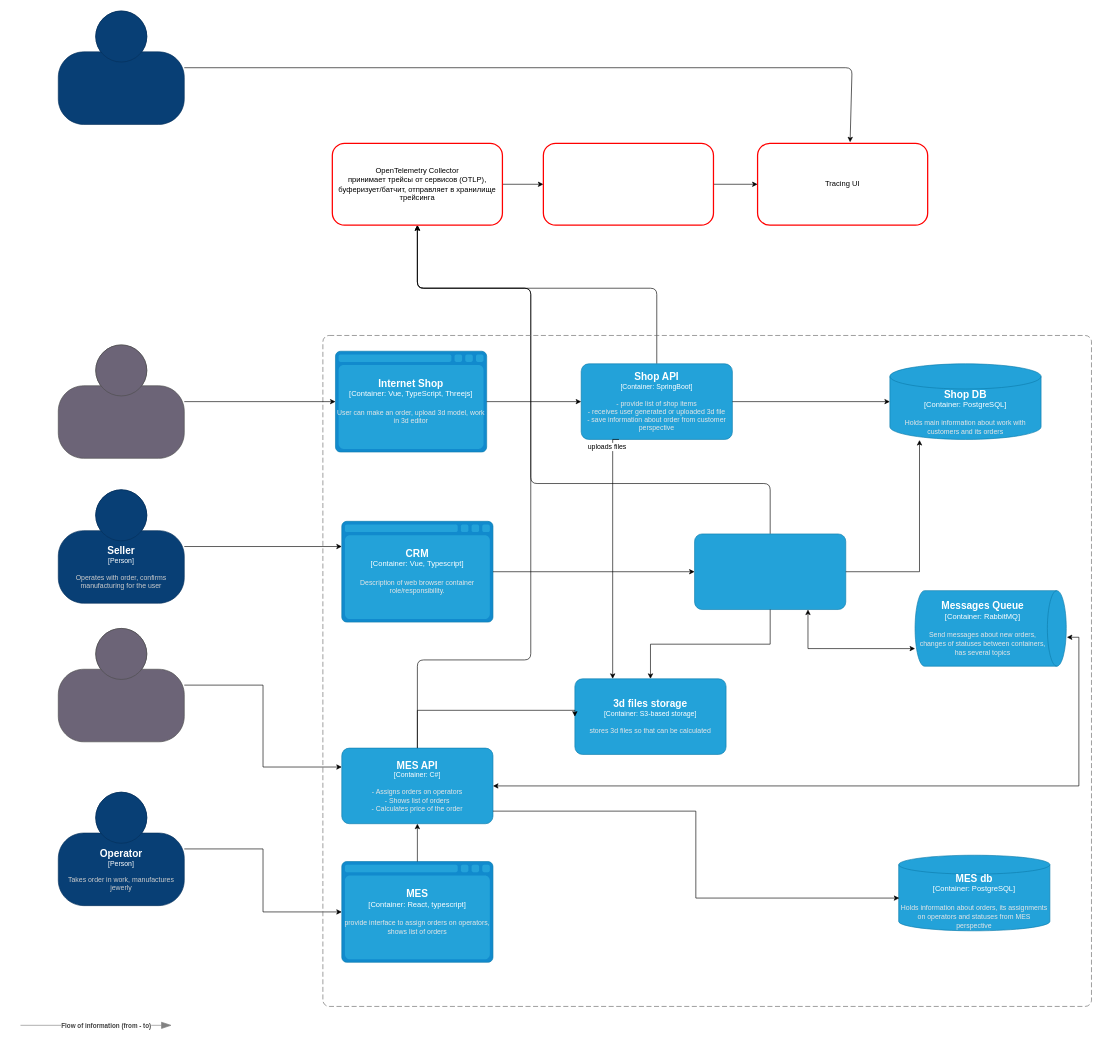
The diagram is 1103 pixels wide and 1046 high, and some of its shapes have lost their labels. Here are the shapes that lost their labels. From the top down, the box of each, then its label:
(58, 10, 184, 124): Support/devops etc [Person]
(542, 142, 714, 226): Tracing Backend (Jaeger / Grafana Tempo) хранение трейсов + поиск по trace_id
(58, 344, 184, 458): Customer [Person] Description of external person.
(694, 533, 846, 610): CRM API [Container: SpringBoot] Description of container role/responsibility.
(58, 628, 184, 742): API user [Person] Description of external person.
(322, 335, 1091, 1006): Jewerly Store System [Software System]
